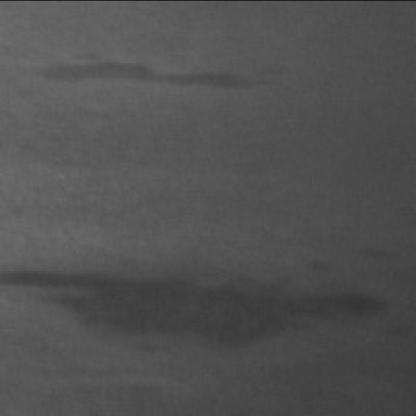inclusion: (7, 262, 395, 352), (35, 40, 285, 92)
